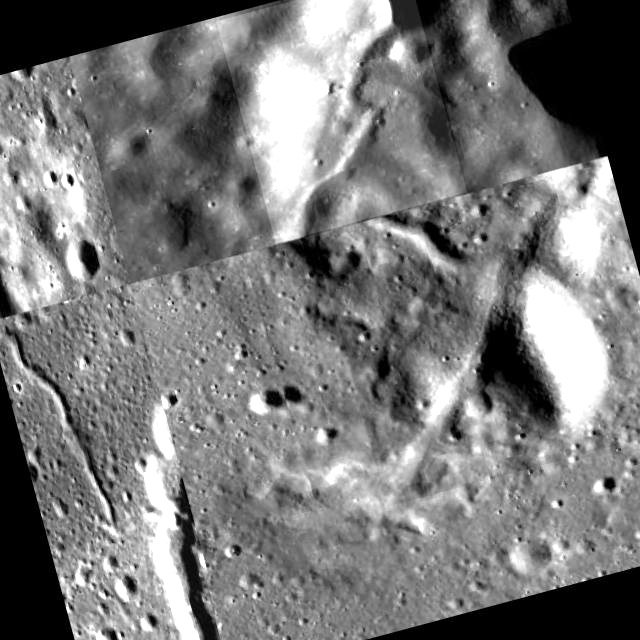crater: (313, 157, 640, 506), (216, 0, 467, 242), (79, 284, 232, 640), (0, 310, 123, 553), (354, 190, 499, 296)
